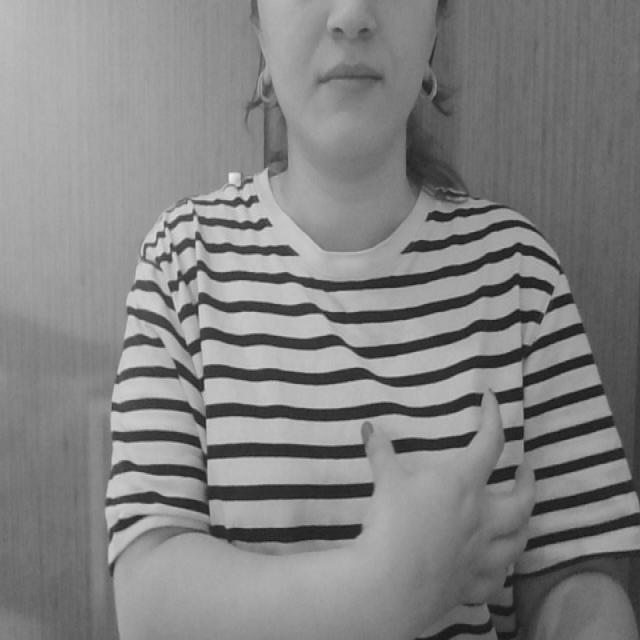Anne: (179, 373, 562, 610)
